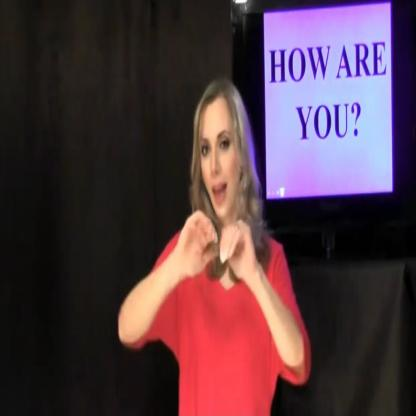HowAreYou: (180, 203, 260, 304)
